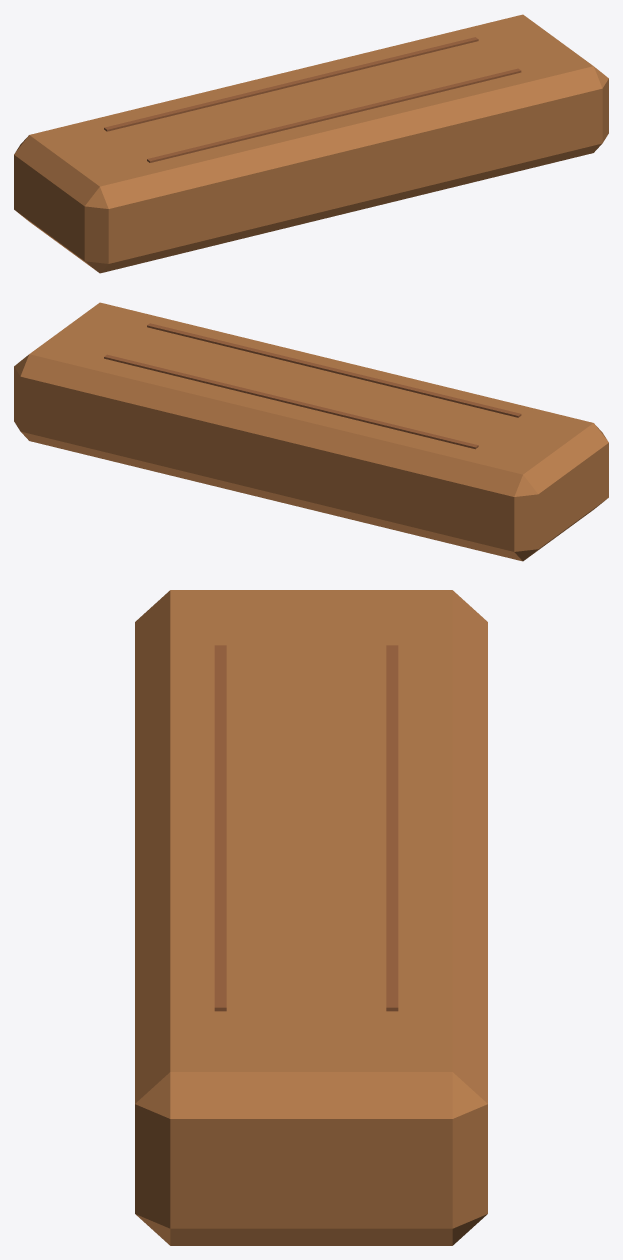
File: item-plank.glb
3 views of the same model, one above another, from view 1: azimuth 30°, elevation 25°; view 2: azimuth 150°, elevation 25°; view 3: azimuth 270°, elevation 25° (orthographic). The views are drawn at different scales.
Visible parts, largest first — view 1: item-plank game mesh; view 2: item-plank game mesh; view 3: item-plank game mesh.
Part boxes in pixels (left/top/right/bottom): item-plank game mesh: left=14, top=14, right=608, bottom=273; item-plank game mesh: left=14, top=302, right=608, bottom=561; item-plank game mesh: left=135, top=590, right=487, bottom=1245.
Bounding box in the file's own units: 1.2 × 0.195 × 0.35.
